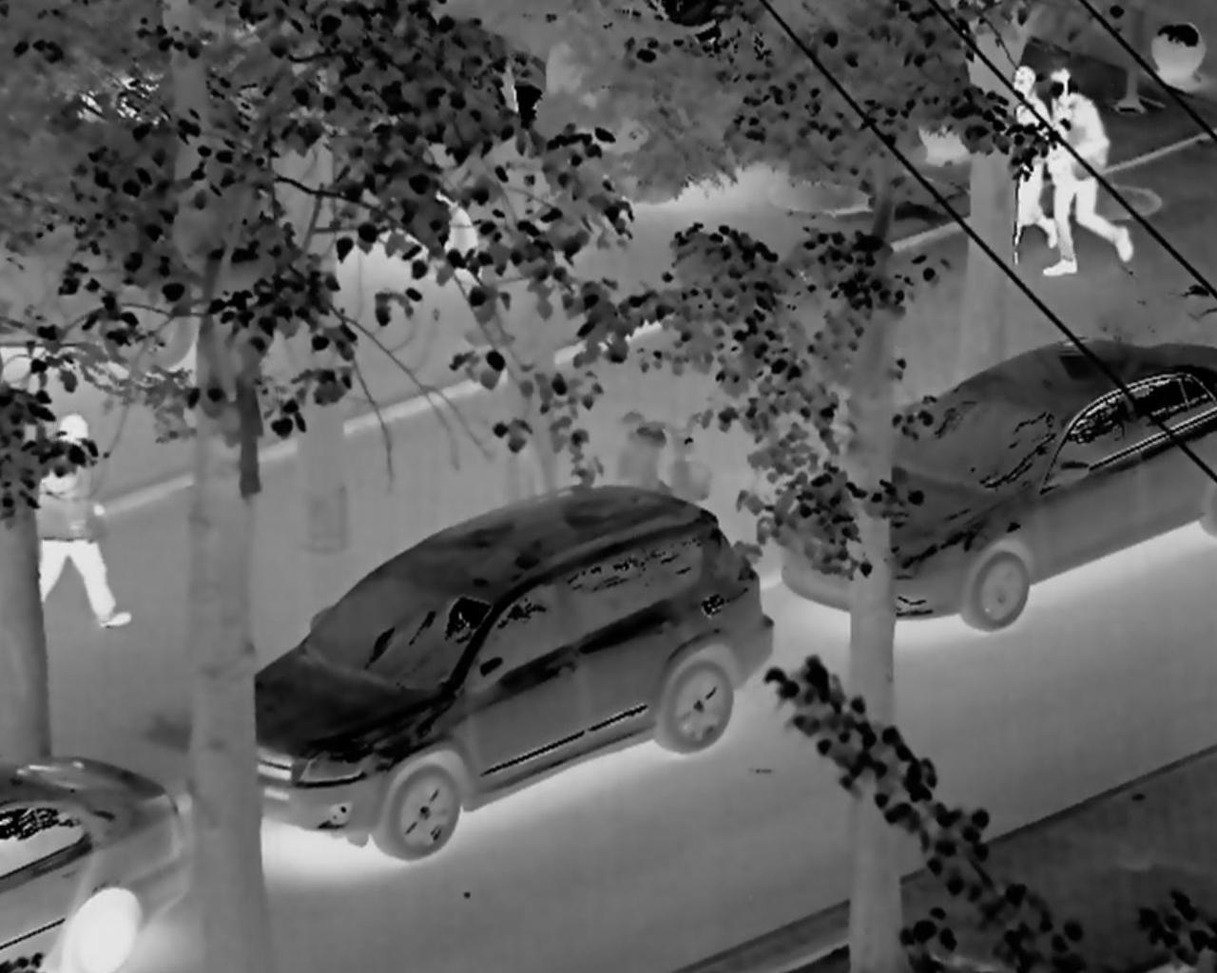person: (19, 410, 149, 677), (1035, 64, 1131, 307), (983, 58, 1053, 290)
